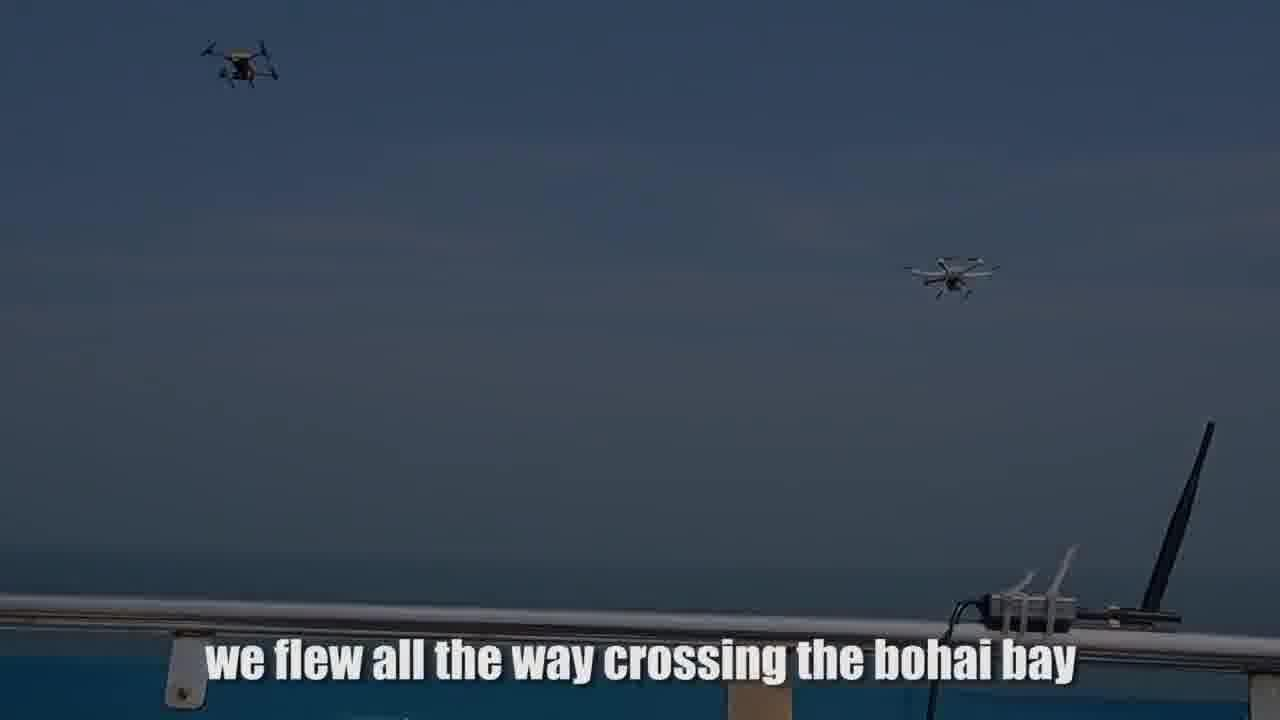drone: (904, 237, 1009, 311), (192, 37, 290, 106)
